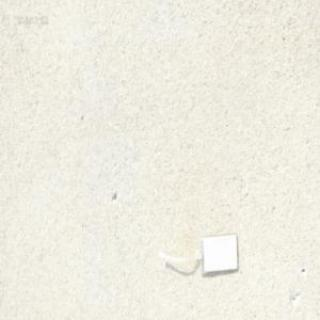LuggageTagtrack_idkeyframe: (156, 229, 238, 275)
